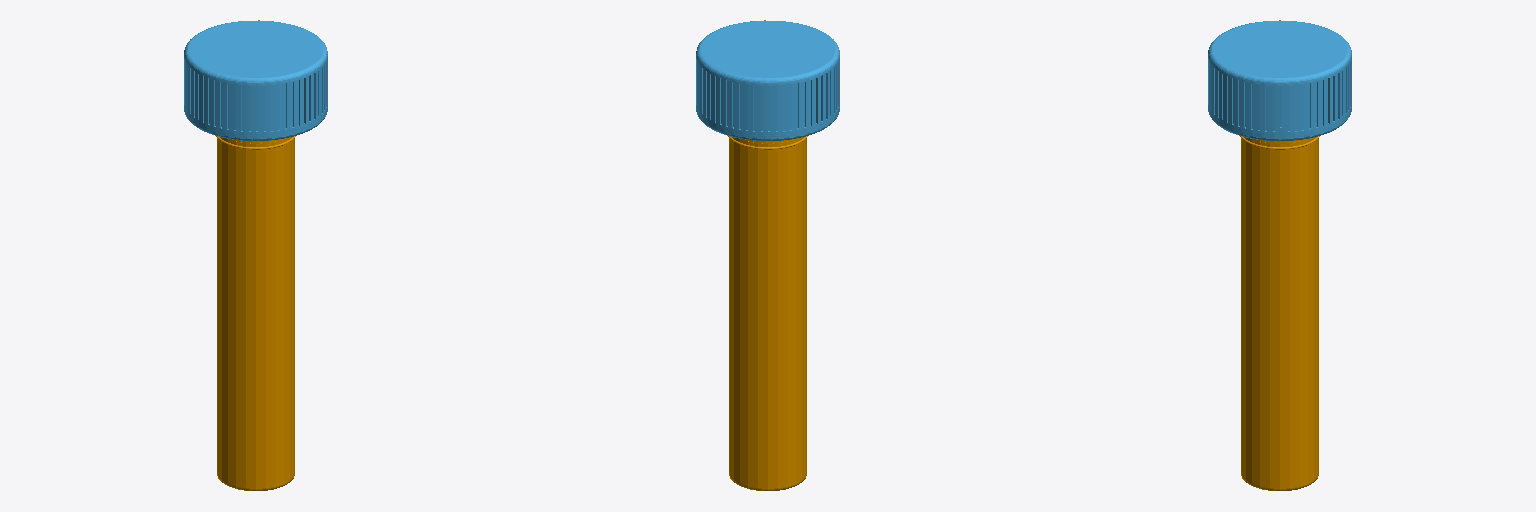
The robot description file, URDF, robot "universal-polystyrene-tube":
<?xml version="1.0"?>
<robot name="universal-polystyrene-tube">

  <link name="universal-ps-base">
    <visual>
      <geometry>
        <mesh filename="../../meshes/polypropene-base-1.obj" scale="0.1 0.1 0.1"/>
      </geometry>
    </visual>
    <collision>
      <geometry>
        <mesh filename="../../meshes/polypropene-base-1.obj" scale="0.1 0.1 0.1"/>
      </geometry>
    </collision>
    <inertial>
      <mass value="0.015"/>
      <inertia ixx="0.1" iyy="0.1" izz="0.1" ixy="0" ixz="0" iyz="0"/>
    </inertial>
    <contact>
      <lateral_friction value="0.40"/>
      <rolling_friction value="0.002"/>
      <spinning_friction value="0.002"/>
      <restitution value="0.05"/>
    </contact>
  </link>

  <link name="universal-ps-cap">
    <visual>
      <geometry>
        <mesh filename="../../meshes/polypropene-cap-1.obj" scale="0.1 0.1 0.1"/>
      </geometry>
    </visual>
    <collision>
      <geometry>
        <mesh filename="../../meshes/polypropene-cap-1.obj" scale="0.1 0.1 0.1"/>
      </geometry>
    </collision>
    <inertial>
      <mass value="0.008"/>
      <inertia ixx="0.01" iyy="0.01" izz="0.01" ixy="0" ixz="0" iyz="0"/>
    </inertial>
    <contact>
      <lateral_friction value="0.30"/>
      <rolling_friction value="0.002"/>
      <spinning_friction value="0.002"/>
      <restitution value="0.05"/>
    </contact>
  </link>
  <joint name="base_to_cap" type="revolute">
    <parent link="universal-ps-base"/>
    <child link="universal-ps-cap"/>
    <origin xyz="0 0 0.47" rpy="0 0 0"/>
    <axis xyz="0 0 1"/>
    <limit lower="-31.4" upper="31.4" effort="10" velocity="5"/>
    <dynamics damping="0.1" friction="0.05"/>
  </joint>

</robot>

--- Facts derived from the render (not from the file) ---
The picture shows the robot from 3 angles, left to right: view 1: azimuth 30°, elevation 25°; view 2: azimuth 150°, elevation 25°; view 3: azimuth 270°, elevation 25°; orthographic projection.
Model universal-polystyrene-tube with 2 links and 1 joints (1 revolute), rooted at universal-ps-base, posed every joint at zero.
Visible links, largest first — view 1: universal-ps-base, universal-ps-cap; view 2: universal-ps-base, universal-ps-cap; view 3: universal-ps-base, universal-ps-cap.
Link boxes in pixels (<box>): universal-ps-base: <box>216,136,295,490</box>; universal-ps-cap: <box>184,20,327,140</box>; universal-ps-base: <box>728,136,807,490</box>; universal-ps-cap: <box>696,20,839,140</box>; universal-ps-base: <box>1240,136,1319,490</box>; universal-ps-cap: <box>1208,20,1351,140</box>.
Size in the robot's own frame: 0.31 by 0.31 by 1.01 metres.
2 mesh visuals loaded from 2 distinct referenced files (2 OBJ).
